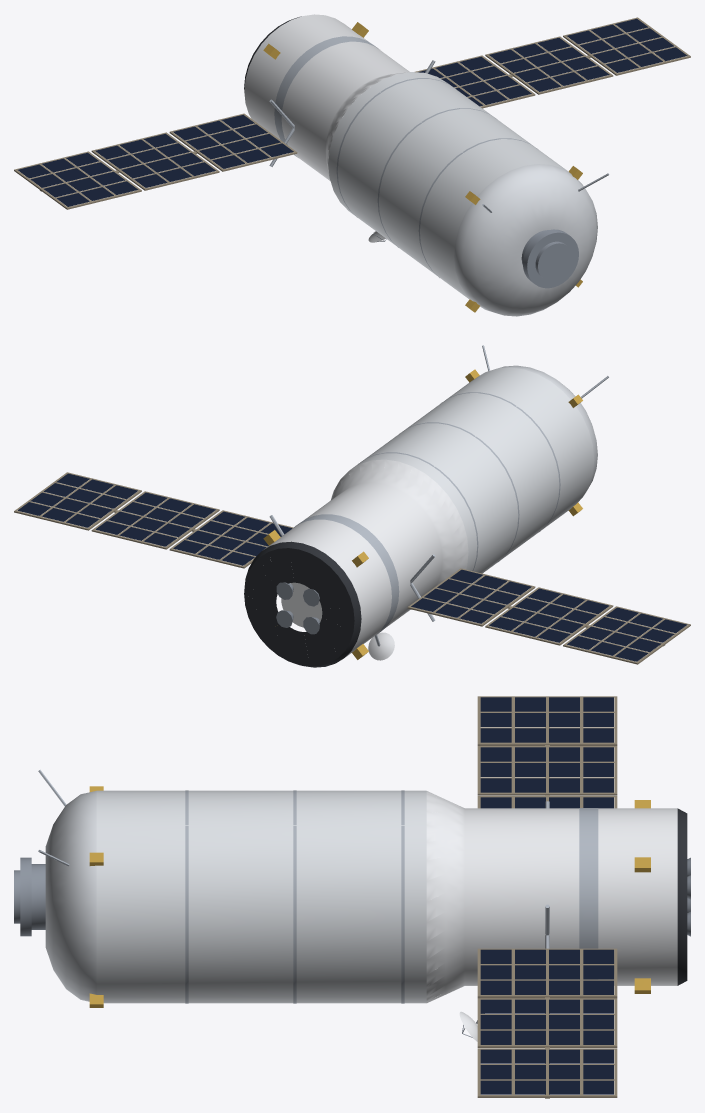
Rendered from tianzhou.glb.
The picture shows the model from 3 angles, top to bottom: view 1: azimuth 30°, elevation 25°; view 2: azimuth 150°, elevation 25°; view 3: azimuth 270°, elevation 25°; orthographic projection. The views are drawn at different scales.
Parts seen in each view (by area): view 1: body, solar-panel, foil; view 2: body, solar-panel, foil; view 3: body, solar-panel, foil.
Boxes of the visible parts, box(x1,y1,x2,y2) form: body: box(14, 14, 690, 316); solar-panel: box(18, 18, 687, 206); foil: box(336, 78, 530, 277); body: box(14, 345, 690, 667); solar-panel: box(18, 473, 687, 661); foil: box(366, 392, 560, 570); body: box(14, 696, 690, 1098); solar-panel: box(480, 697, 613, 1094); foil: box(185, 790, 404, 1003).
Bounding box in the file's own units: 14.9 × 4.19 × 10.66.
